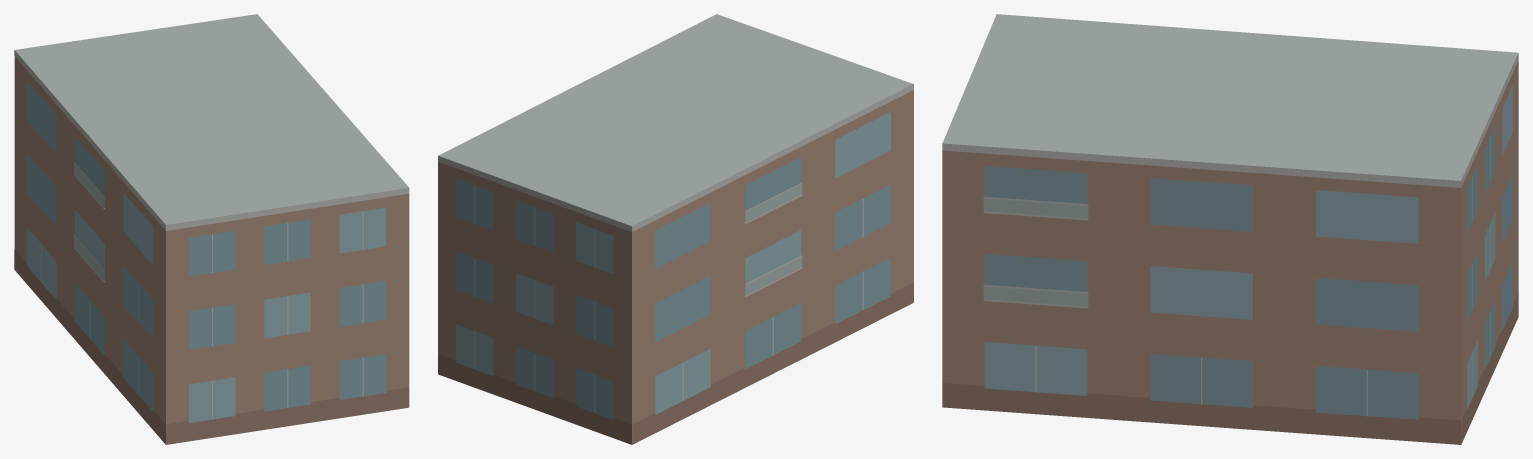
Rendered from survey-upis-32684634.glb.
The picture shows the model from 3 angles, left to right: view 1: azimuth 30°, elevation 25°; view 2: azimuth 150°, elevation 25°; view 3: azimuth 270°, elevation 25°; orthographic projection. The views are drawn at different scales.
Parts seen in each view (by area): view 1: survey-upis-32684634.tmp; view 2: survey-upis-32684634.tmp; view 3: survey-upis-32684634.tmp.
Boxes of the visible parts, box(x1,y1,x2,y2) form: survey-upis-32684634.tmp: box(14, 14, 409, 444); survey-upis-32684634.tmp: box(438, 14, 913, 444); survey-upis-32684634.tmp: box(942, 14, 1518, 444).
Bounding box in the file's own units: 12.42 × 9.15 × 18.12.
